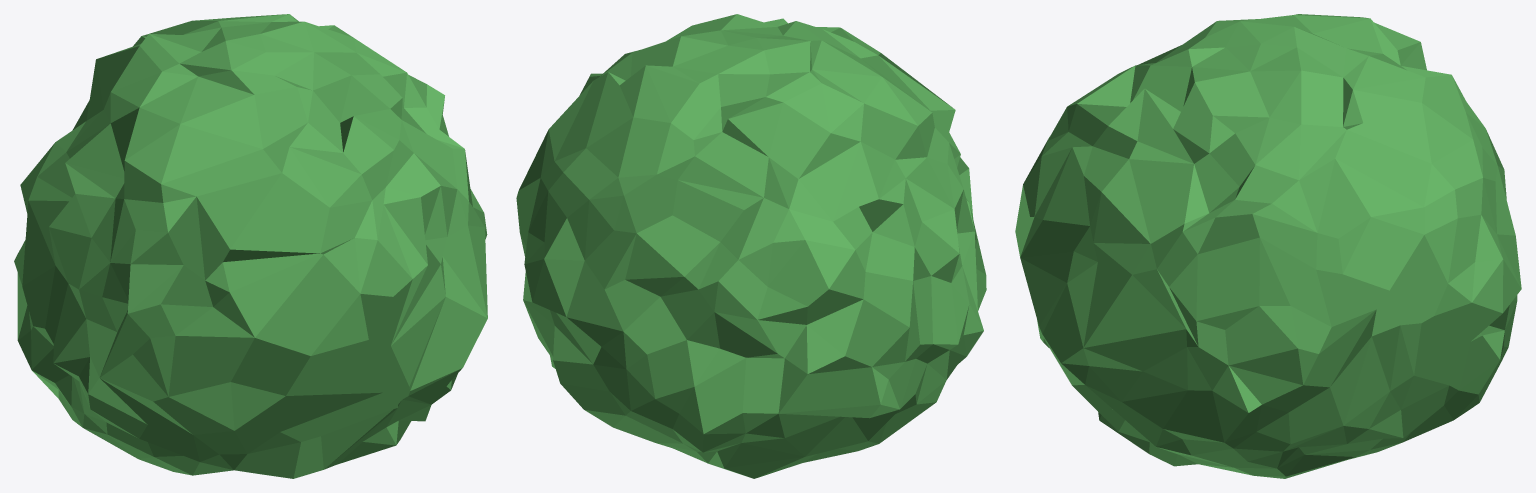
File: arbustoPeqVarios.glb
3 views of the same model, side by side, from view 1: azimuth 30°, elevation 25°; view 2: azimuth 150°, elevation 25°; view 3: azimuth 270°, elevation 25° (orthographic). The views are drawn at different scales.
Parts seen in each view (by area): view 1: Icosphere.001; view 2: Icosphere.001; view 3: Icosphere.001.
Part boxes in pixels (x1,y1,x2,y2): Icosphere.001: (14,14,487,478); Icosphere.001: (516,14,986,478); Icosphere.001: (1015,14,1521,478).
Bounding box in the file's own units: 0.5039 × 0.4503 × 0.5186.
